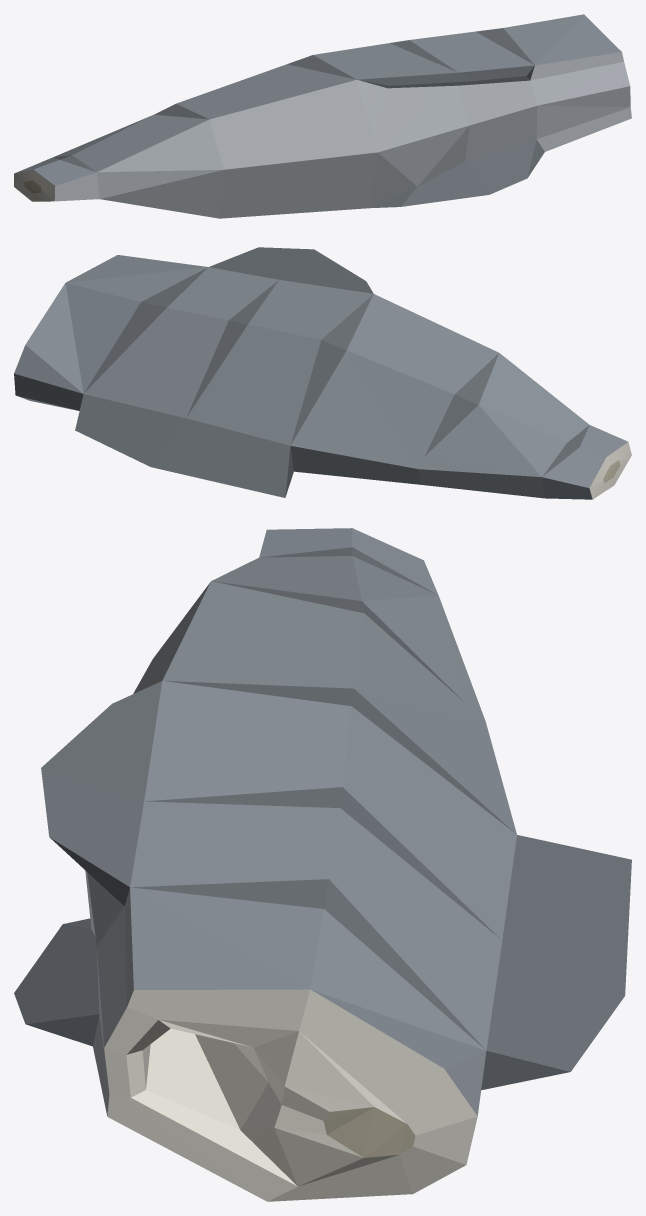
Rendered from PT_Fish_Body_01.fbx.
3 views of the same model, one above another, from view 1: azimuth 30°, elevation 25°; view 2: azimuth 150°, elevation 25°; view 3: azimuth 270°, elevation 25° (orthographic). The views are drawn at different scales.
Visible parts, largest first — view 1: PT_Fish_Body_01; view 2: PT_Fish_Body_01; view 3: PT_Fish_Body_01.
Part boxes in pixels (x1,y1,x2,y2): PT_Fish_Body_01: [14, 14, 631, 218]; PT_Fish_Body_01: [14, 247, 631, 499]; PT_Fish_Body_01: [14, 528, 631, 1201].
Bounding box in the file's own units: 68.03 × 16.48 × 32.9.
Materials: 1 (1 with a texture image).
